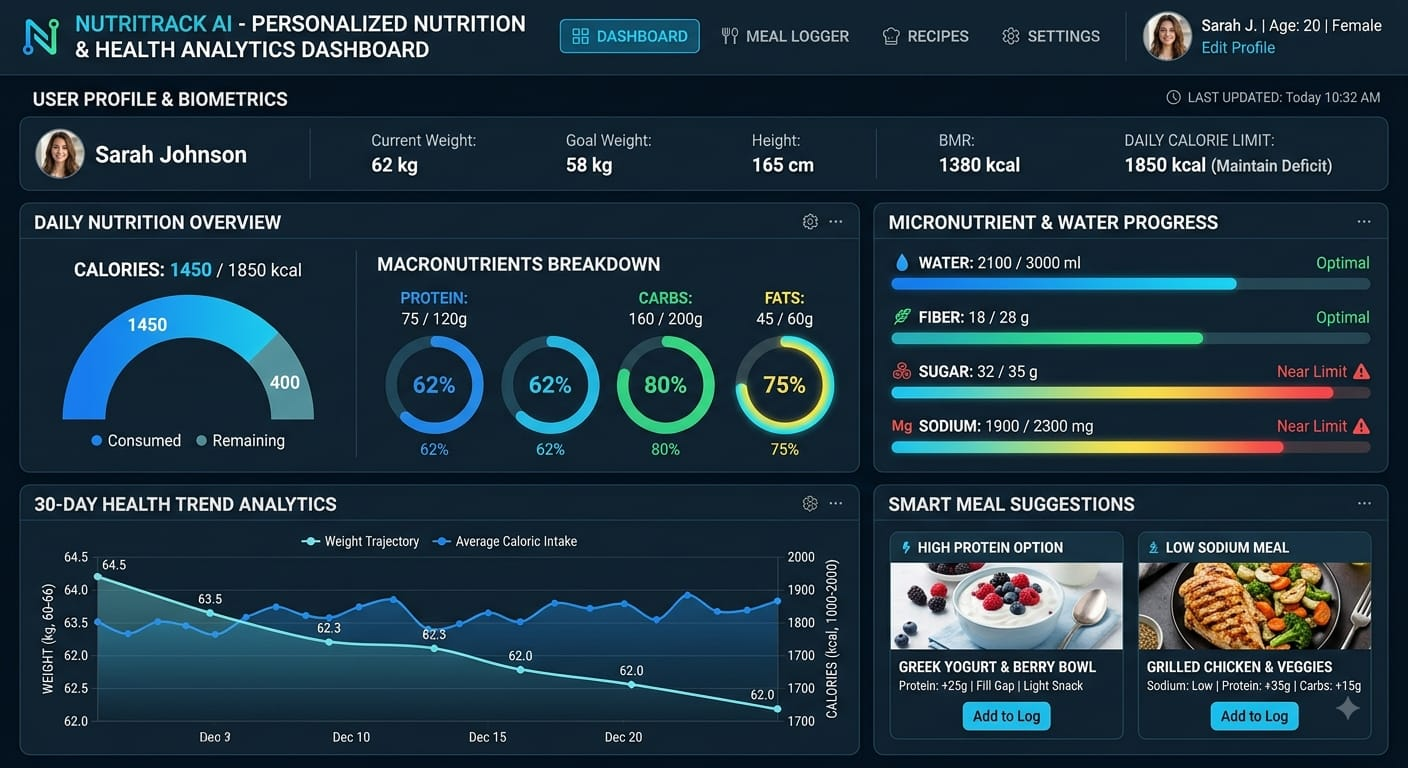

The dashboard page shown, as its layout file describes it:
{"tool":"powerbi","page":{"name":"Page 1","canvas":[1920,1080],"ordinal":0},"visuals":[{"type":"treemap","title":"Nutrient Intake Distribution","fields":{"Values":["Avg(nutrition_tracking_30_days.Sugar_Consumed_g)","Avg(nutrition_tracking_30_days.Carbs_Consumed_g)","Avg(nutrition_tracking_30_days.Fats_Consumed_g)","Avg(nutrition_tracking_30_days.Fiber_Consumed_g)","Avg(nutrition_tracking_30_days.Protein_Consumed_g)"]},"box":[1133.3,598.9,787.4,482],"z":0},{"type":"lineChart","title":"30-Day Health Tracking","fields":{"Category":["health_tracking_30_days.Date.Variation.Date Hierarchy.Day"],"Y":["Avg(health_tracking_30_days.Weight_kg)"],"Y2":["Sum(health_tracking_30_days.Calories_Consumed_kcal)"]},"box":[0,597.5,1135,482.5],"z":1000},{"type":"slicer","fields":{"Values":["nutrition_tracking_30_days.Date"]},"box":[0,162.5,500,150],"z":1001},{"type":"donutChart","title":"Protein Intake","fields":{"Category":["Protein Donut.Status"],"Y":["Protein Donut.Protein Amount"]},"box":[717.5,310,415.1,286.3],"z":1002},{"type":"actionButton","box":[0,0,100,40],"z":1004},{"type":"donutChart","title":"Carbs Intake","fields":{"Category":["Carbs Donut.Status"],"Y":["Carbs Donut.Carbs Amount"]},"box":[1132.5,315,400.8,286.3],"z":1005},{"type":"donutChart","title":"Fat Intake","fields":{"Category":["Fats Donut.Status"],"Y":["Fats Donut.Fats Amount"]},"box":[1532.5,312.5,388.9,291.1],"z":1006},{"type":"gauge","title":"Daily Calorie Intake","fields":{"MaxValue":["Sum(nutrition_tracking_30_days.Max Calories Limit)"],"Y":["Sum(nutrition_tracking_30_days.Calories Consumed)"]},"box":[0,312.5,717.5,287.5],"z":1008},{"type":"cardVisual","fields":{"Data":["Avg(UserProfile.Current Weight)"]},"box":[817.5,165,282.5,150],"z":1009},{"type":"cardVisual","fields":{"Data":["Avg(UserProfile.Goal Weight)"]},"box":[1097.5,162.5,282.5,150],"z":1010},{"type":"cardVisual","fields":{"Data":["Min(UserProfile.User Name)"]},"box":[500,162.5,317.5,150],"z":1011},{"type":"cardVisual","fields":{"Data":["Avg(UserProfile.Height)"]},"box":[1379.1,162.2,264.8,150.3],"z":1012},{"type":"cardVisual","fields":{"Data":["Avg(UserProfile.BMR)"]},"box":[1643.9,162.2,276.8,147.9],"z":1013},{"type":"textbox","box":[0,0,1920,162.5],"z":1014}]}

Visuals, with their boxes on the page's 1920x1080 design canvas (x1, y1, x2, y2). These are canvas units, not pixel positions in the 1408x768 screenshot, which may show the page scaled, cropped or inside an application window:
"Nutrient Intake Distribution" treemap: <box>1133,599,1921,1081</box>
"30-Day Health Tracking" lineChart: <box>0,598,1135,1080</box>
slicer - nutrition_tracking_30_days.Date: <box>0,162,500,312</box>
"Protein Intake" donutChart: <box>718,310,1133,596</box>
actionButton: <box>0,0,100,40</box>
"Carbs Intake" donutChart: <box>1132,315,1533,601</box>
"Fat Intake" donutChart: <box>1532,312,1921,604</box>
"Daily Calorie Intake" gauge: <box>0,312,718,600</box>
cardVisual - Avg(UserProfile.Current Weight): <box>818,165,1100,315</box>
cardVisual - Avg(UserProfile.Goal Weight): <box>1098,162,1380,312</box>
cardVisual - Min(UserProfile.User Name): <box>500,162,818,312</box>
cardVisual - Avg(UserProfile.Height): <box>1379,162,1644,312</box>
cardVisual - Avg(UserProfile.BMR): <box>1644,162,1921,310</box>
textbox: <box>0,0,1920,162</box>
